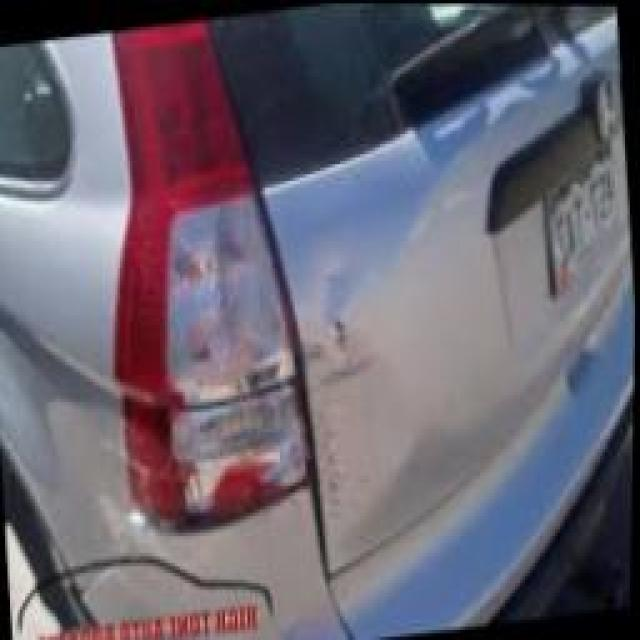Light: (162, 180, 321, 542)
